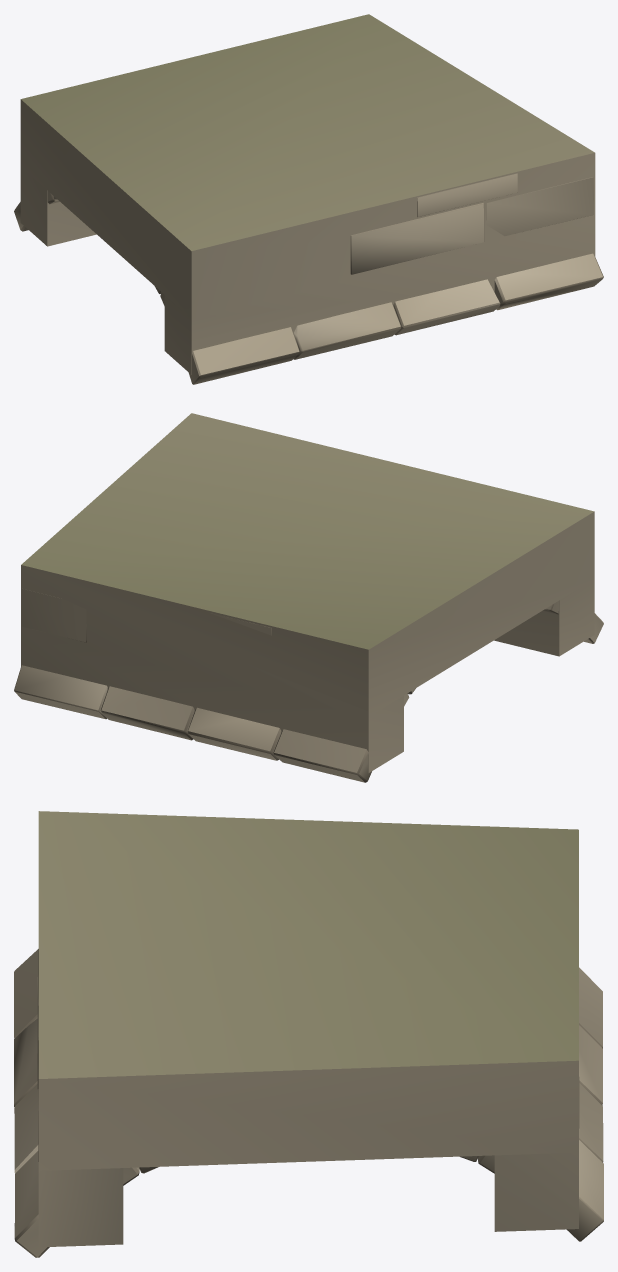
File: arena_vault_a.glb
The picture shows the model from 3 angles, top to bottom: view 1: azimuth 30°, elevation 25°; view 2: azimuth 150°, elevation 25°; view 3: azimuth 270°, elevation 25°; orthographic projection. The views are drawn at different scales.
Visible parts, largest first — view 1: arena_vault_a_far, arena_vault_a; view 2: arena_vault_a_far, arena_vault_a; view 3: arena_vault_a_far, arena_vault_a.
Boxes of the visible parts, <box> form: arena_vault_a_far: <box>20,14,595,374</box>; arena_vault_a: <box>14,173,603,384</box>; arena_vault_a_far: <box>21,413,594,772</box>; arena_vault_a: <box>14,588,603,782</box>; arena_vault_a_far: <box>38,811,578,1247</box>; arena_vault_a: <box>14,949,603,1257</box>.
Size of the model in its own units: 18.85 by 5.94 by 17.48.
